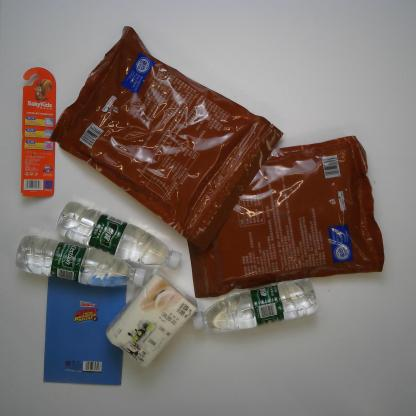Dried Food: (47, 25, 285, 256), (185, 134, 386, 300)
Drink: (53, 198, 183, 273), (191, 276, 319, 337), (15, 234, 146, 291)
Personal Hygiene: (20, 64, 58, 199)
Stationery: (40, 261, 130, 388)
Tissue: (104, 268, 201, 369)
